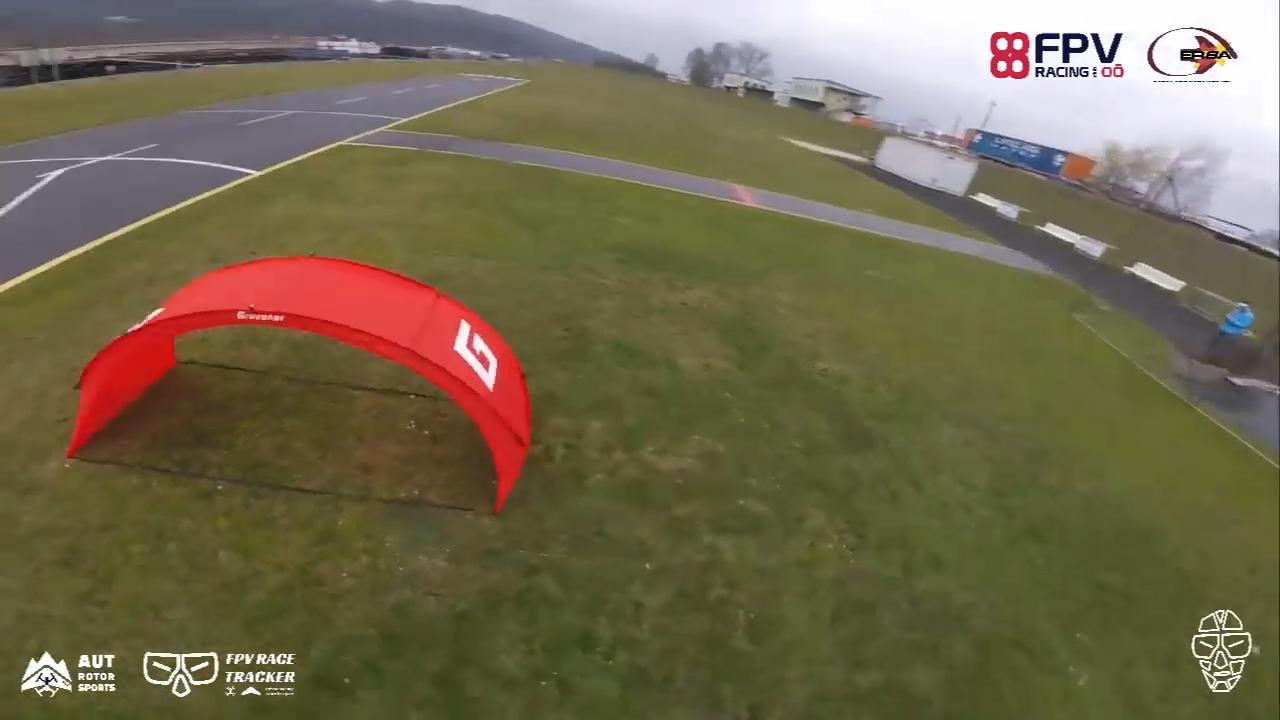gate: (68, 252, 534, 513)
